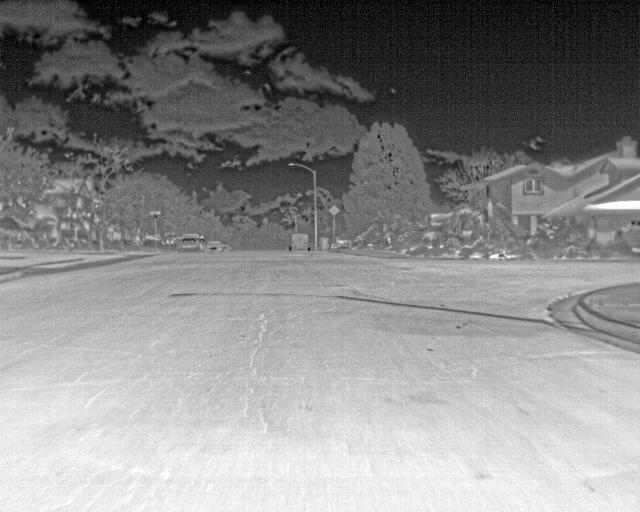car: (288, 232, 309, 252), (179, 235, 200, 253), (204, 238, 225, 252)
